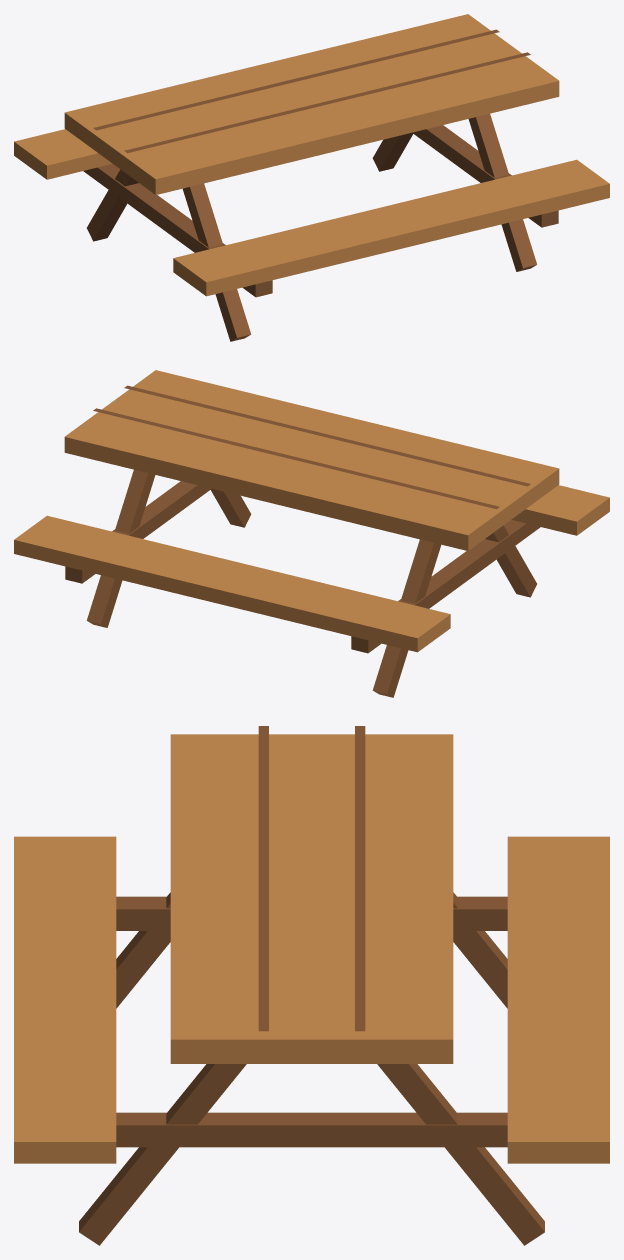
File: picnic_table.glb
3 views of the same model, one above another, from view 1: azimuth 30°, elevation 25°; view 2: azimuth 150°, elevation 25°; view 3: azimuth 270°, elevation 25° (orthographic). The views are drawn at different scales.
Visible parts, largest first — view 1: picnic_table; view 2: picnic_table; view 3: picnic_table.
Part boxes in pixels (x1,y1,x2,y2): picnic_table: (14, 14, 609, 341); picnic_table: (14, 370, 609, 697); picnic_table: (14, 726, 609, 1245).
Bounding box in the file's own units: 0.24 × 0.093 × 0.198.
